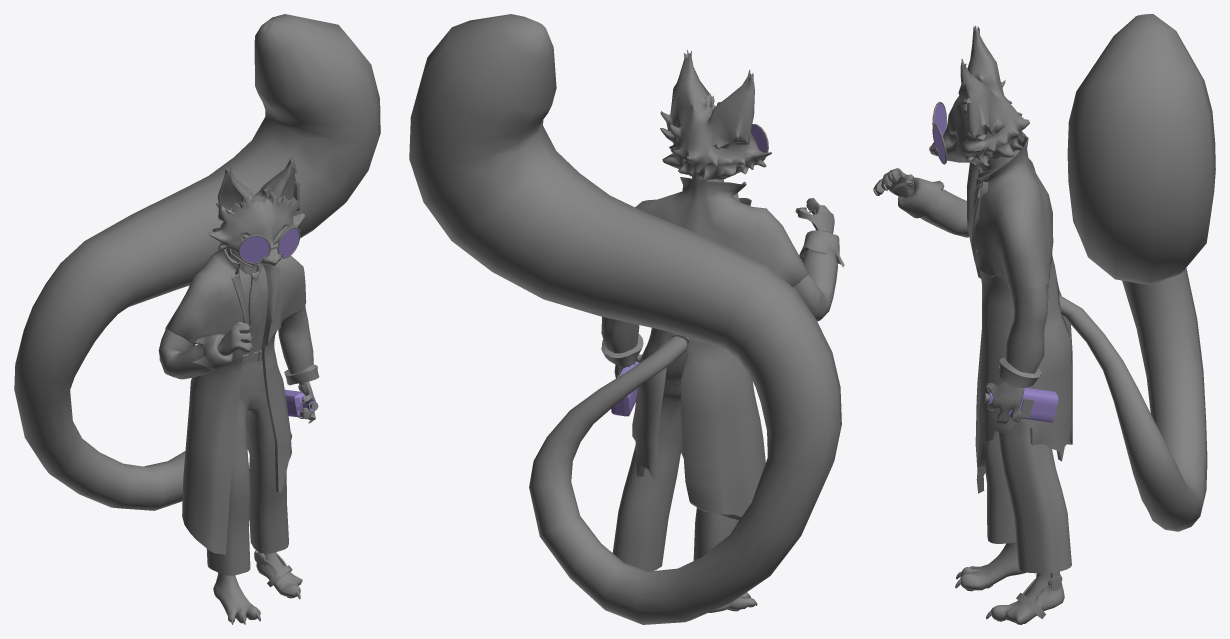
Rendered from Abrams_Posed.fbx.
The picture shows the model from 3 angles, left to right: view 1: azimuth 30°, elevation 25°; view 2: azimuth 150°, elevation 25°; view 3: azimuth 270°, elevation 25°; orthographic projection. The views are drawn at different scales.
Parts seen in each view (by area): view 1: Tail, Jacket, Abrams_Body, Head, Hands n Feet, Glass; view 2: Tail, Jacket, Abrams_Body, Head, Hands n Feet, Glass; view 3: Tail, Jacket, Abrams_Body, Head, Hands n Feet, Glass.
Part boxes in pixels (x1,y1,x2,y2): Tail: (14, 14, 380, 510); Jacket: (158, 248, 319, 554); Abrams_Body: (206, 266, 318, 624); Head: (209, 156, 304, 265); Hands n Feet: (213, 321, 315, 622); Glass: (240, 228, 314, 417); Tail: (409, 14, 841, 624); Jacket: (601, 177, 844, 520); Abrams_Body: (612, 200, 810, 611); Head: (660, 50, 771, 180); Hands n Feet: (614, 198, 834, 612); Glass: (611, 125, 766, 416); Tail: (1059, 14, 1215, 531); Jacket: (898, 135, 1072, 493); Abrams_Body: (873, 172, 1071, 623); Head: (929, 26, 1029, 165); Hands n Feet: (873, 168, 1064, 624); Glass: (933, 103, 1058, 422).
Size of the model in its own units: 151 by 105 by 214.
